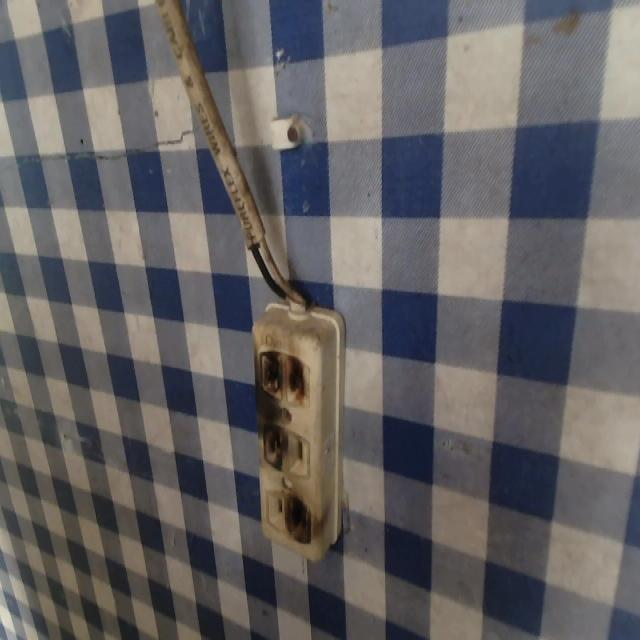-: (249, 342, 316, 409), (280, 490, 323, 550), (257, 417, 292, 472)
